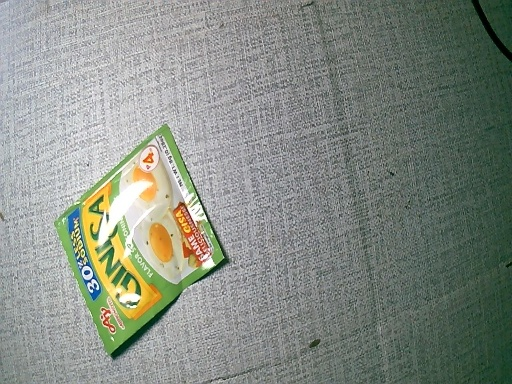plastic: (55, 123, 227, 360)
